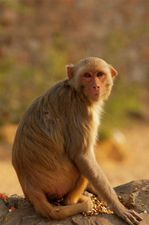monkey: (23, 30, 132, 225)
